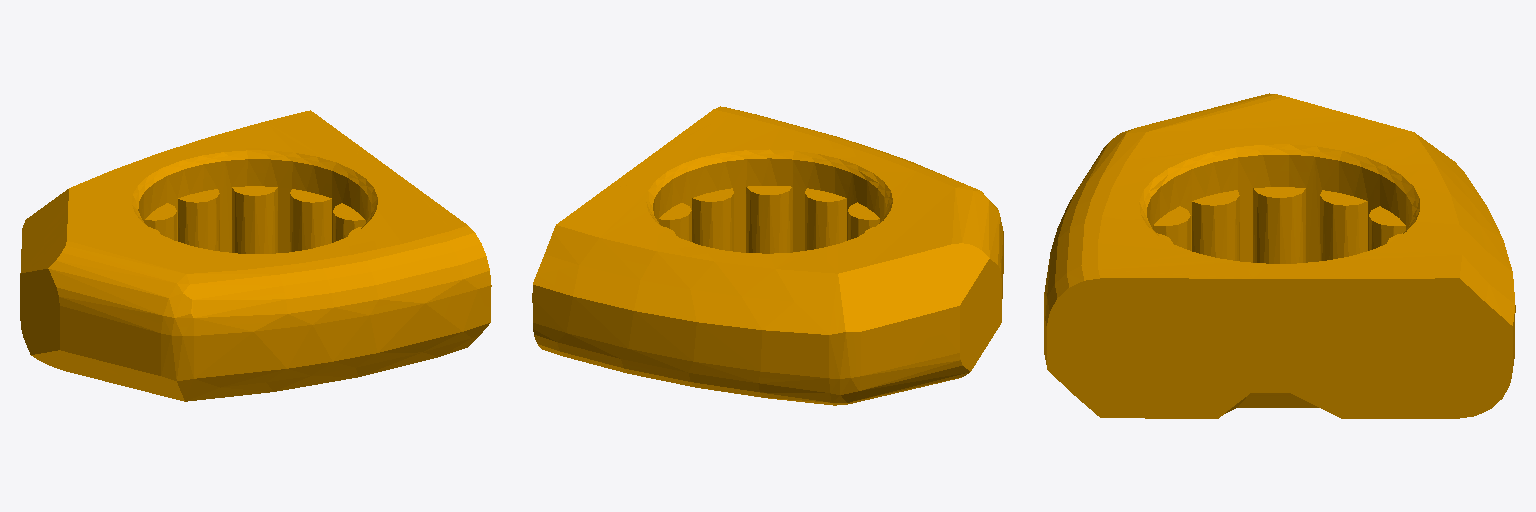
robot.urdf — 00755_socket:
<?xml version="1.0"?>
<robot name="00755_socket">
	<link name="00755_socket">
		<visual>
			<geometry>
				<mesh filename="../mesh/00755/asset_socket.obj"/>
			</geometry>
		</visual>
		<collision>
			<geometry>
				<mesh filename="../mesh/00755/asset_socket.obj"/>
			</geometry>
			<sdf resolution="256"/>
		</collision>
	</link>
</robot>

--- What the picture shows (computed from the rendered views, not written in the file) ---
The picture shows the robot from 3 angles, left to right: view 1: azimuth 30°, elevation 25°; view 2: azimuth 150°, elevation 25°; view 3: azimuth 270°, elevation 25°; orthographic projection.
Robot: 00755_socket — 1 links, 0 joints (none); root link 00755_socket; default pose: all joints at 0.
Visible links, largest first — view 1: 00755_socket; view 2: 00755_socket; view 3: 00755_socket.
Link boxes in pixels (x1,y1,x2,y2): 00755_socket: [20, 110, 491, 401]; 00755_socket: [532, 106, 1003, 405]; 00755_socket: [1044, 93, 1515, 418].
Bounding box of the posed robot: 0.0222 × 0.0228 × 0.008 m (x, y, z).
1 mesh visuals loaded from 1 distinct referenced files (1 OBJ).
